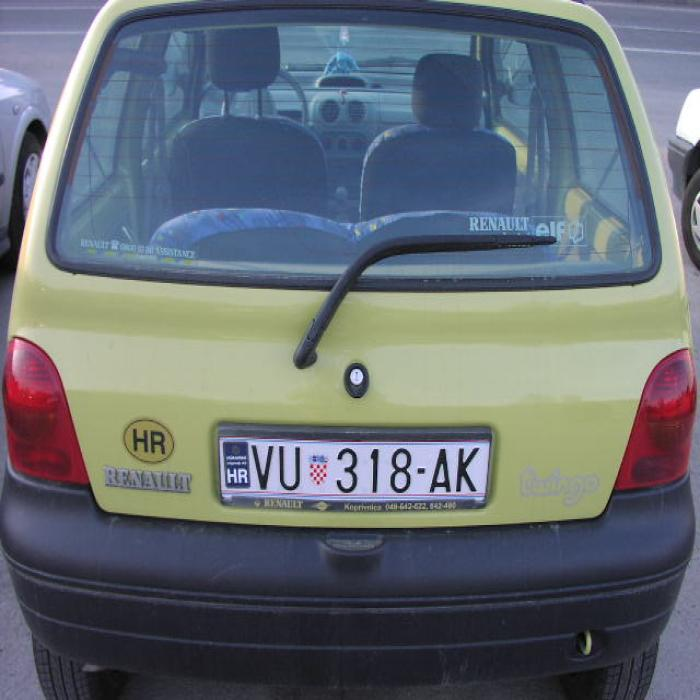number_plate: (220, 437, 482, 496)
